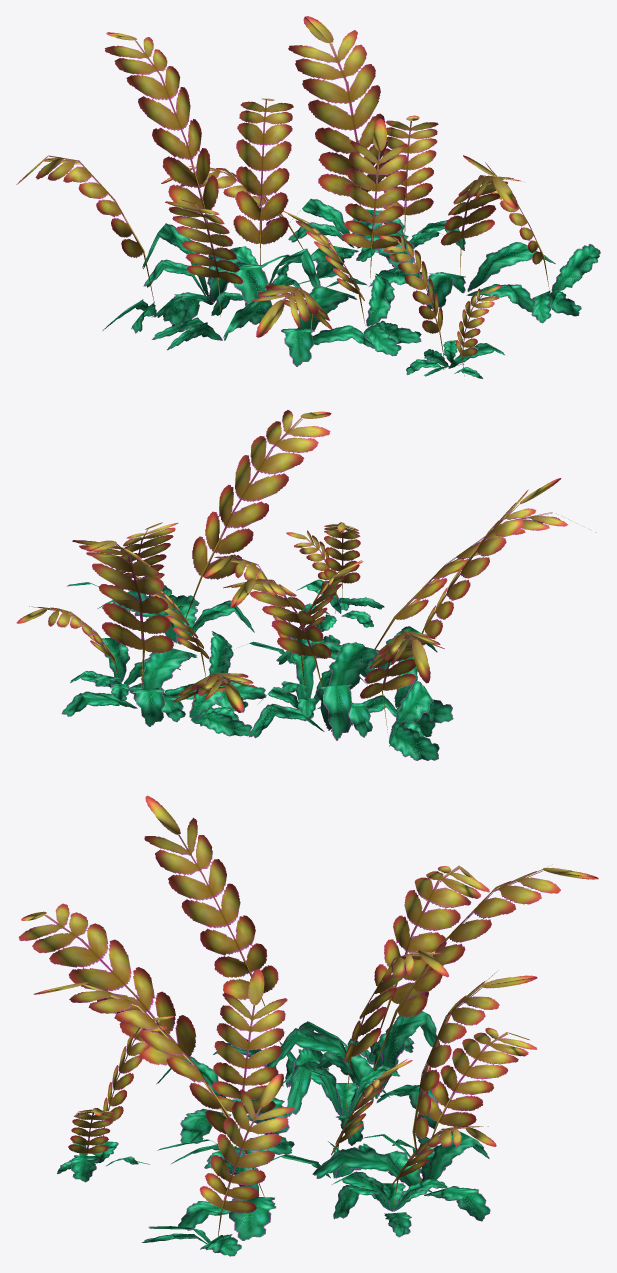
The model's file is n_SWFgogra01c.glb.
3 renders of one model, top to bottom at view 1: azimuth 30°, elevation 25°; view 2: azimuth 150°, elevation 25°; view 3: azimuth 270°, elevation 25°, orthographic. The views are drawn at different scales.
Parts seen in each view (by area): view 1: n_SWFgogra01c; view 2: n_SWFgogra01c; view 3: n_SWFgogra01c.
Part boxes in pixels (x1,y1,x2,y2): n_SWFgogra01c: [16, 16, 600, 378]; n_SWFgogra01c: [16, 410, 596, 760]; n_SWFgogra01c: [18, 795, 598, 1256].
Size of the model in its own units: 3 by 1.34 by 2.87.
4 materials, 4 textured.
